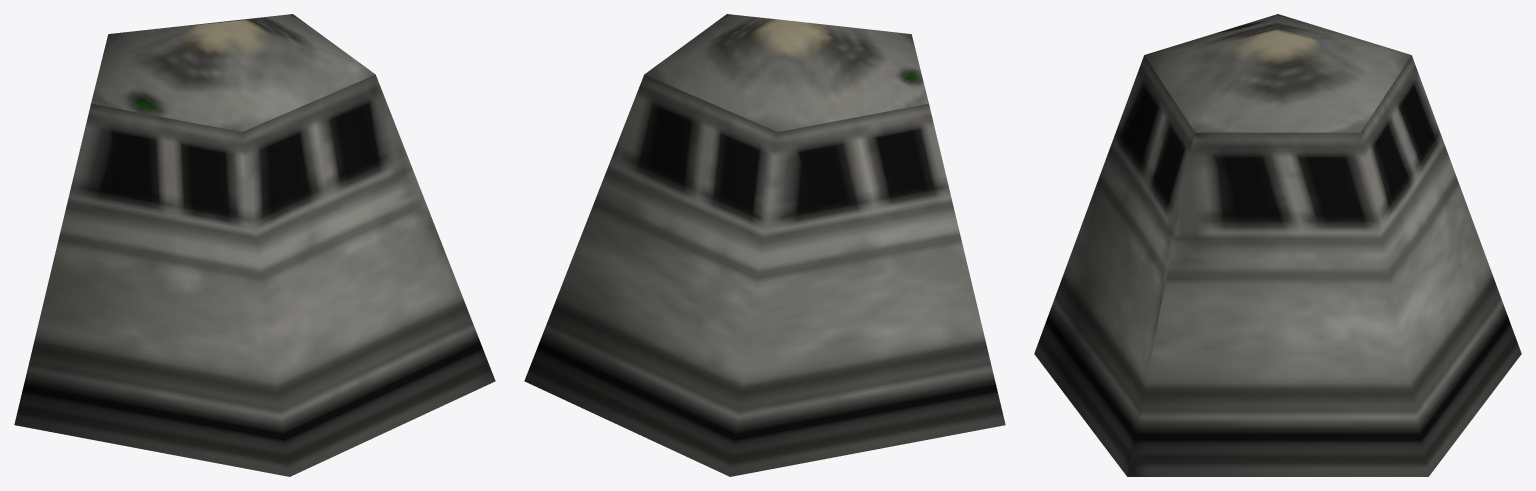
The model's file is p6_smoke_detector_lod2.glb.
3 renders of one model, left to right at view 1: azimuth 30°, elevation 25°; view 2: azimuth 150°, elevation 25°; view 3: azimuth 270°, elevation 25°, orthographic.
Parts seen in each view (by area): view 1: surf0; view 2: surf0; view 3: surf0.
Part boxes in pixels (box(x1,y1,x2,y2)): surf0: box(14, 14, 495, 476); surf0: box(524, 14, 1005, 476); surf0: box(1034, 14, 1521, 476).
Bounding box in the file's own units: 9.38 × 7.75 × 9.77.
